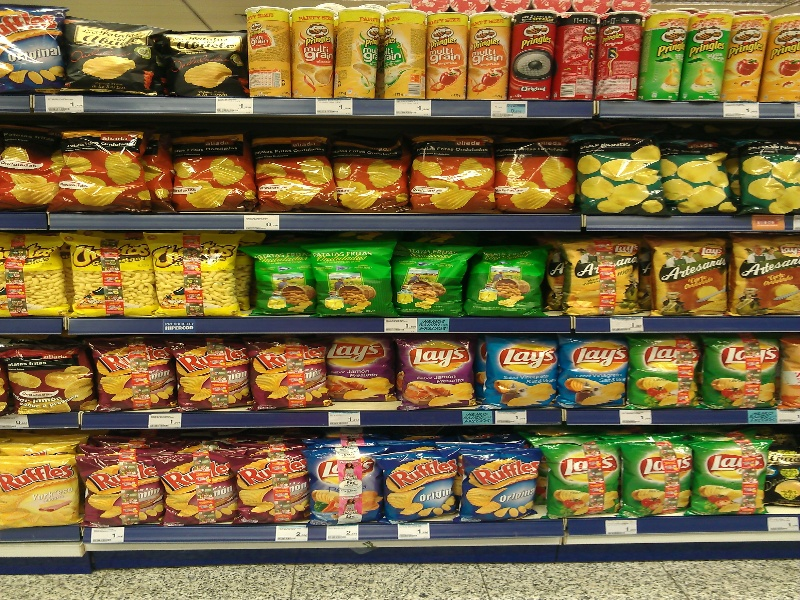chips: (54, 129, 158, 214), (576, 133, 674, 219), (303, 236, 399, 323), (660, 135, 748, 226), (167, 130, 261, 214), (374, 442, 464, 529), (464, 242, 556, 326), (387, 235, 477, 320), (225, 443, 317, 526), (170, 330, 258, 413), (493, 135, 582, 216), (407, 134, 498, 213), (247, 339, 338, 418), (539, 438, 624, 522), (303, 440, 385, 527), (328, 135, 416, 216), (234, 239, 320, 320), (396, 337, 483, 416), (480, 335, 564, 414), (254, 139, 338, 218), (456, 445, 542, 522), (619, 435, 696, 518), (699, 338, 785, 411), (691, 439, 772, 516), (625, 335, 709, 409), (324, 335, 403, 411), (558, 337, 631, 411), (737, 133, 800, 210)
